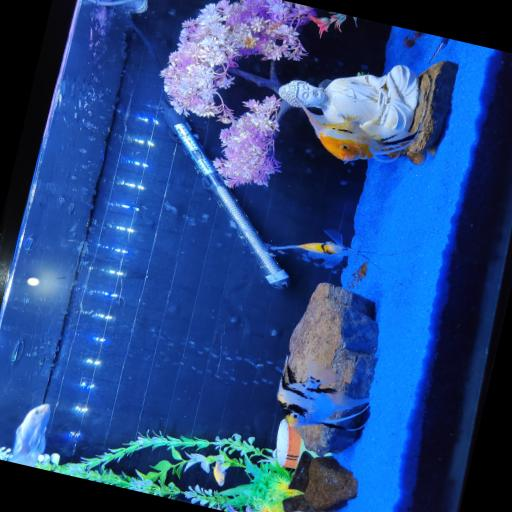Fish: (302, 99, 417, 161), (278, 357, 369, 430), (270, 229, 369, 267), (10, 403, 50, 467), (429, 37, 448, 64), (213, 461, 227, 485)
